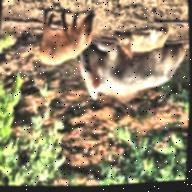boar: (74, 31, 188, 109), (36, 6, 96, 70), (111, 23, 171, 62)
